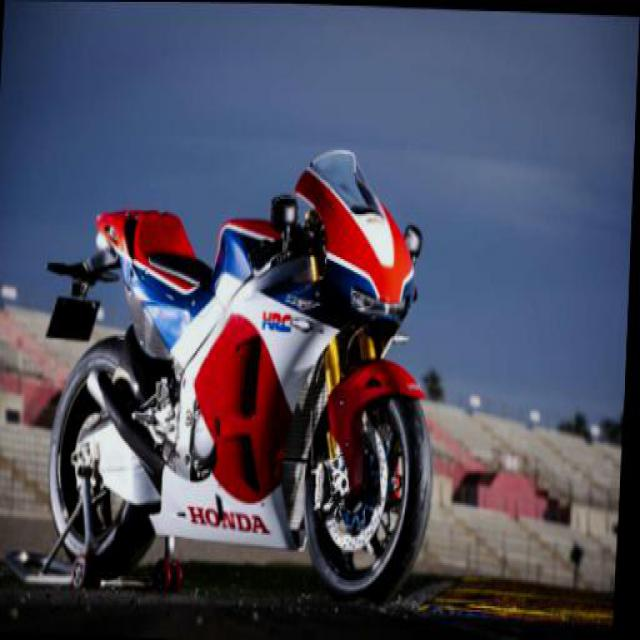HRC RCV 213: (45, 131, 454, 597)
